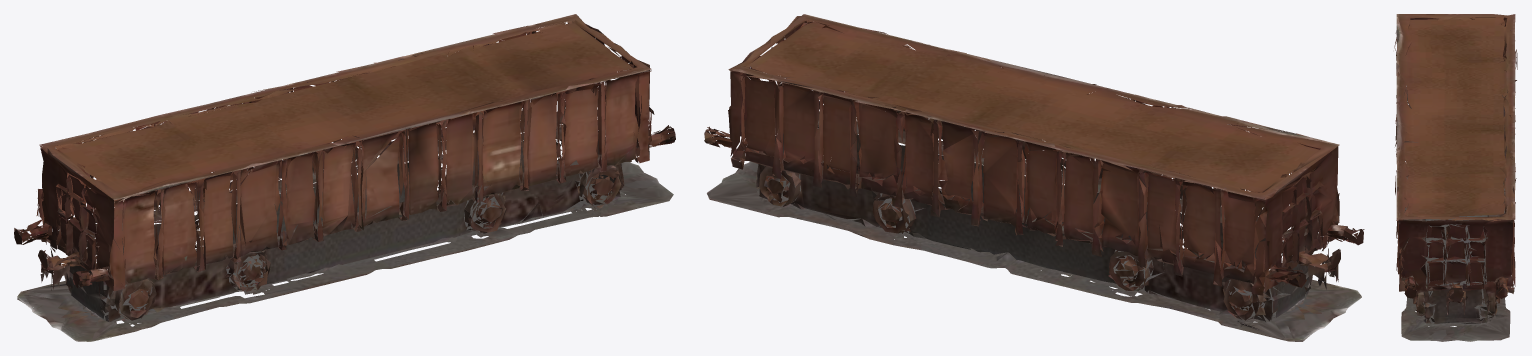
Rendered from container_gondola_open.glb.
3 renders of one model, left to right at view 1: azimuth 30°, elevation 25°; view 2: azimuth 150°, elevation 25°; view 3: azimuth 270°, elevation 25°, orthographic. The views are drawn at different scales.
Parts seen in each view (by area): view 1: container_gondola_open; view 2: container_gondola_open; view 3: container_gondola_open.
Part boxes in pixels (x1,y1,x2,y2): container_gondola_open: [14, 14, 675, 341]; container_gondola_open: [704, 14, 1364, 341]; container_gondola_open: [1394, 14, 1517, 341].
Size of the model in its own units: 13.97 by 3.21 by 3.15.
Materials: 1 (1 with a texture image).
